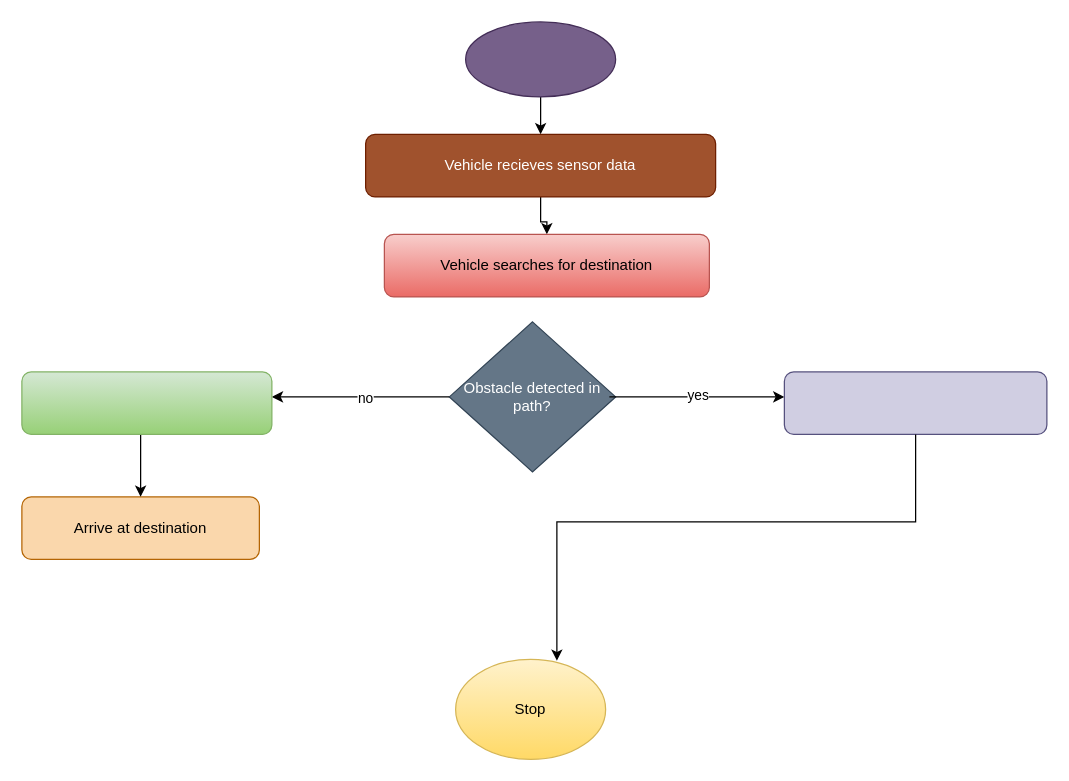
Image size: 1069x781. Some labels were removed from this diagram. Each missing label, with the box of its shape:
Navigate towards destination: (21, 371, 272, 434)
Start: (464, 21, 616, 97)
Stop or avoid obstacle: (783, 371, 1047, 434)
